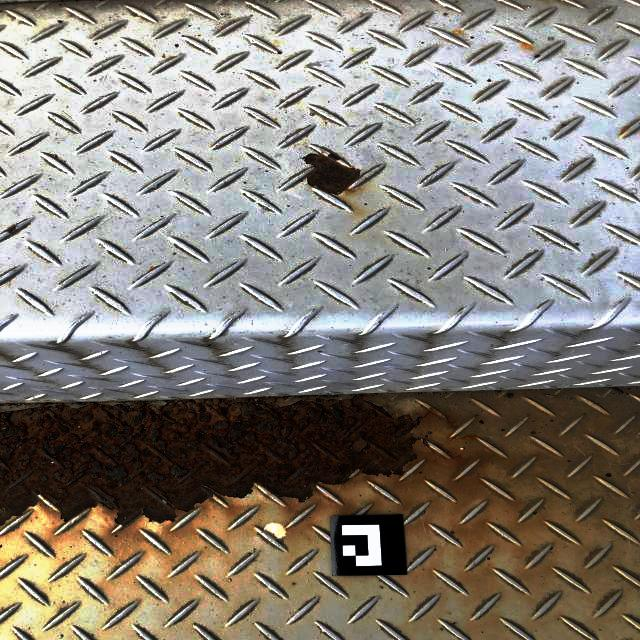Corrosion: (0, 394, 427, 528), (302, 148, 368, 201)
